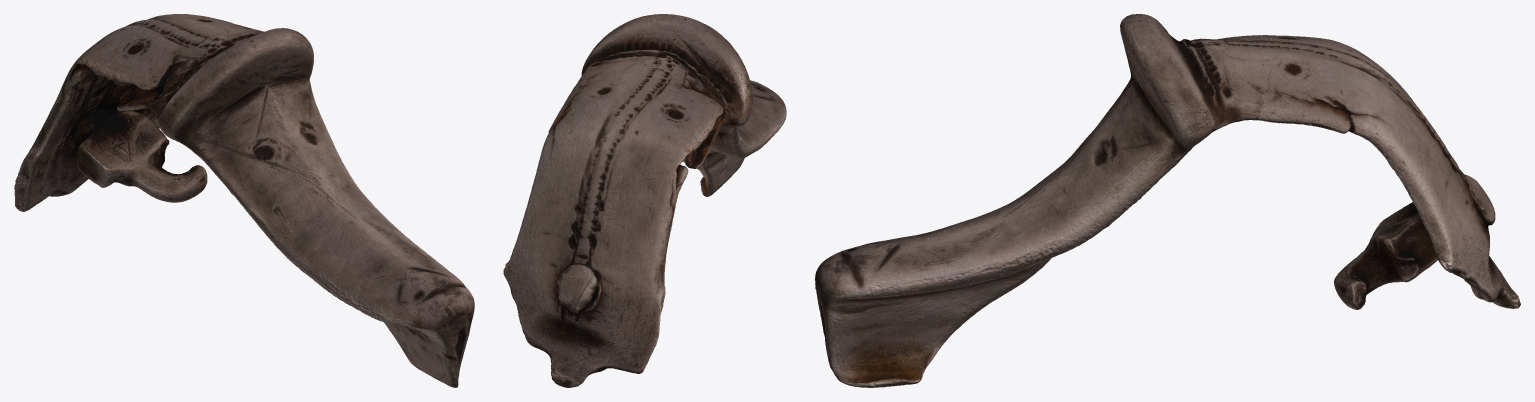
3 renders of one model, left to right at view 1: azimuth 30°, elevation 25°; view 2: azimuth 150°, elevation 25°; view 3: azimuth 270°, elevation 25°, orthographic. The views are drawn at different scales.
Visible parts, largest first — view 1: Mesh_0; view 2: Mesh_0; view 3: Mesh_0.
Part boxes in pixels (x1=…): Mesh_0: x1=14, y1=14, x2=474, y2=387; Mesh_0: x1=503, y1=14, x2=786, y2=387; Mesh_0: x1=815, y1=14, x2=1520, y2=387.
Size of the model in its own units: 0.1427 by 0.186 by 0.37.
1 material, 1 textured.
